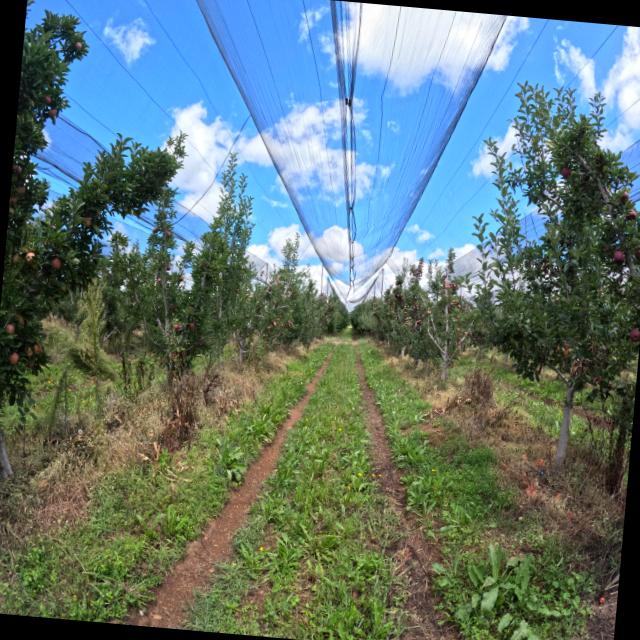-FireBlight-: (569, 356, 592, 381), (562, 345, 570, 356)
